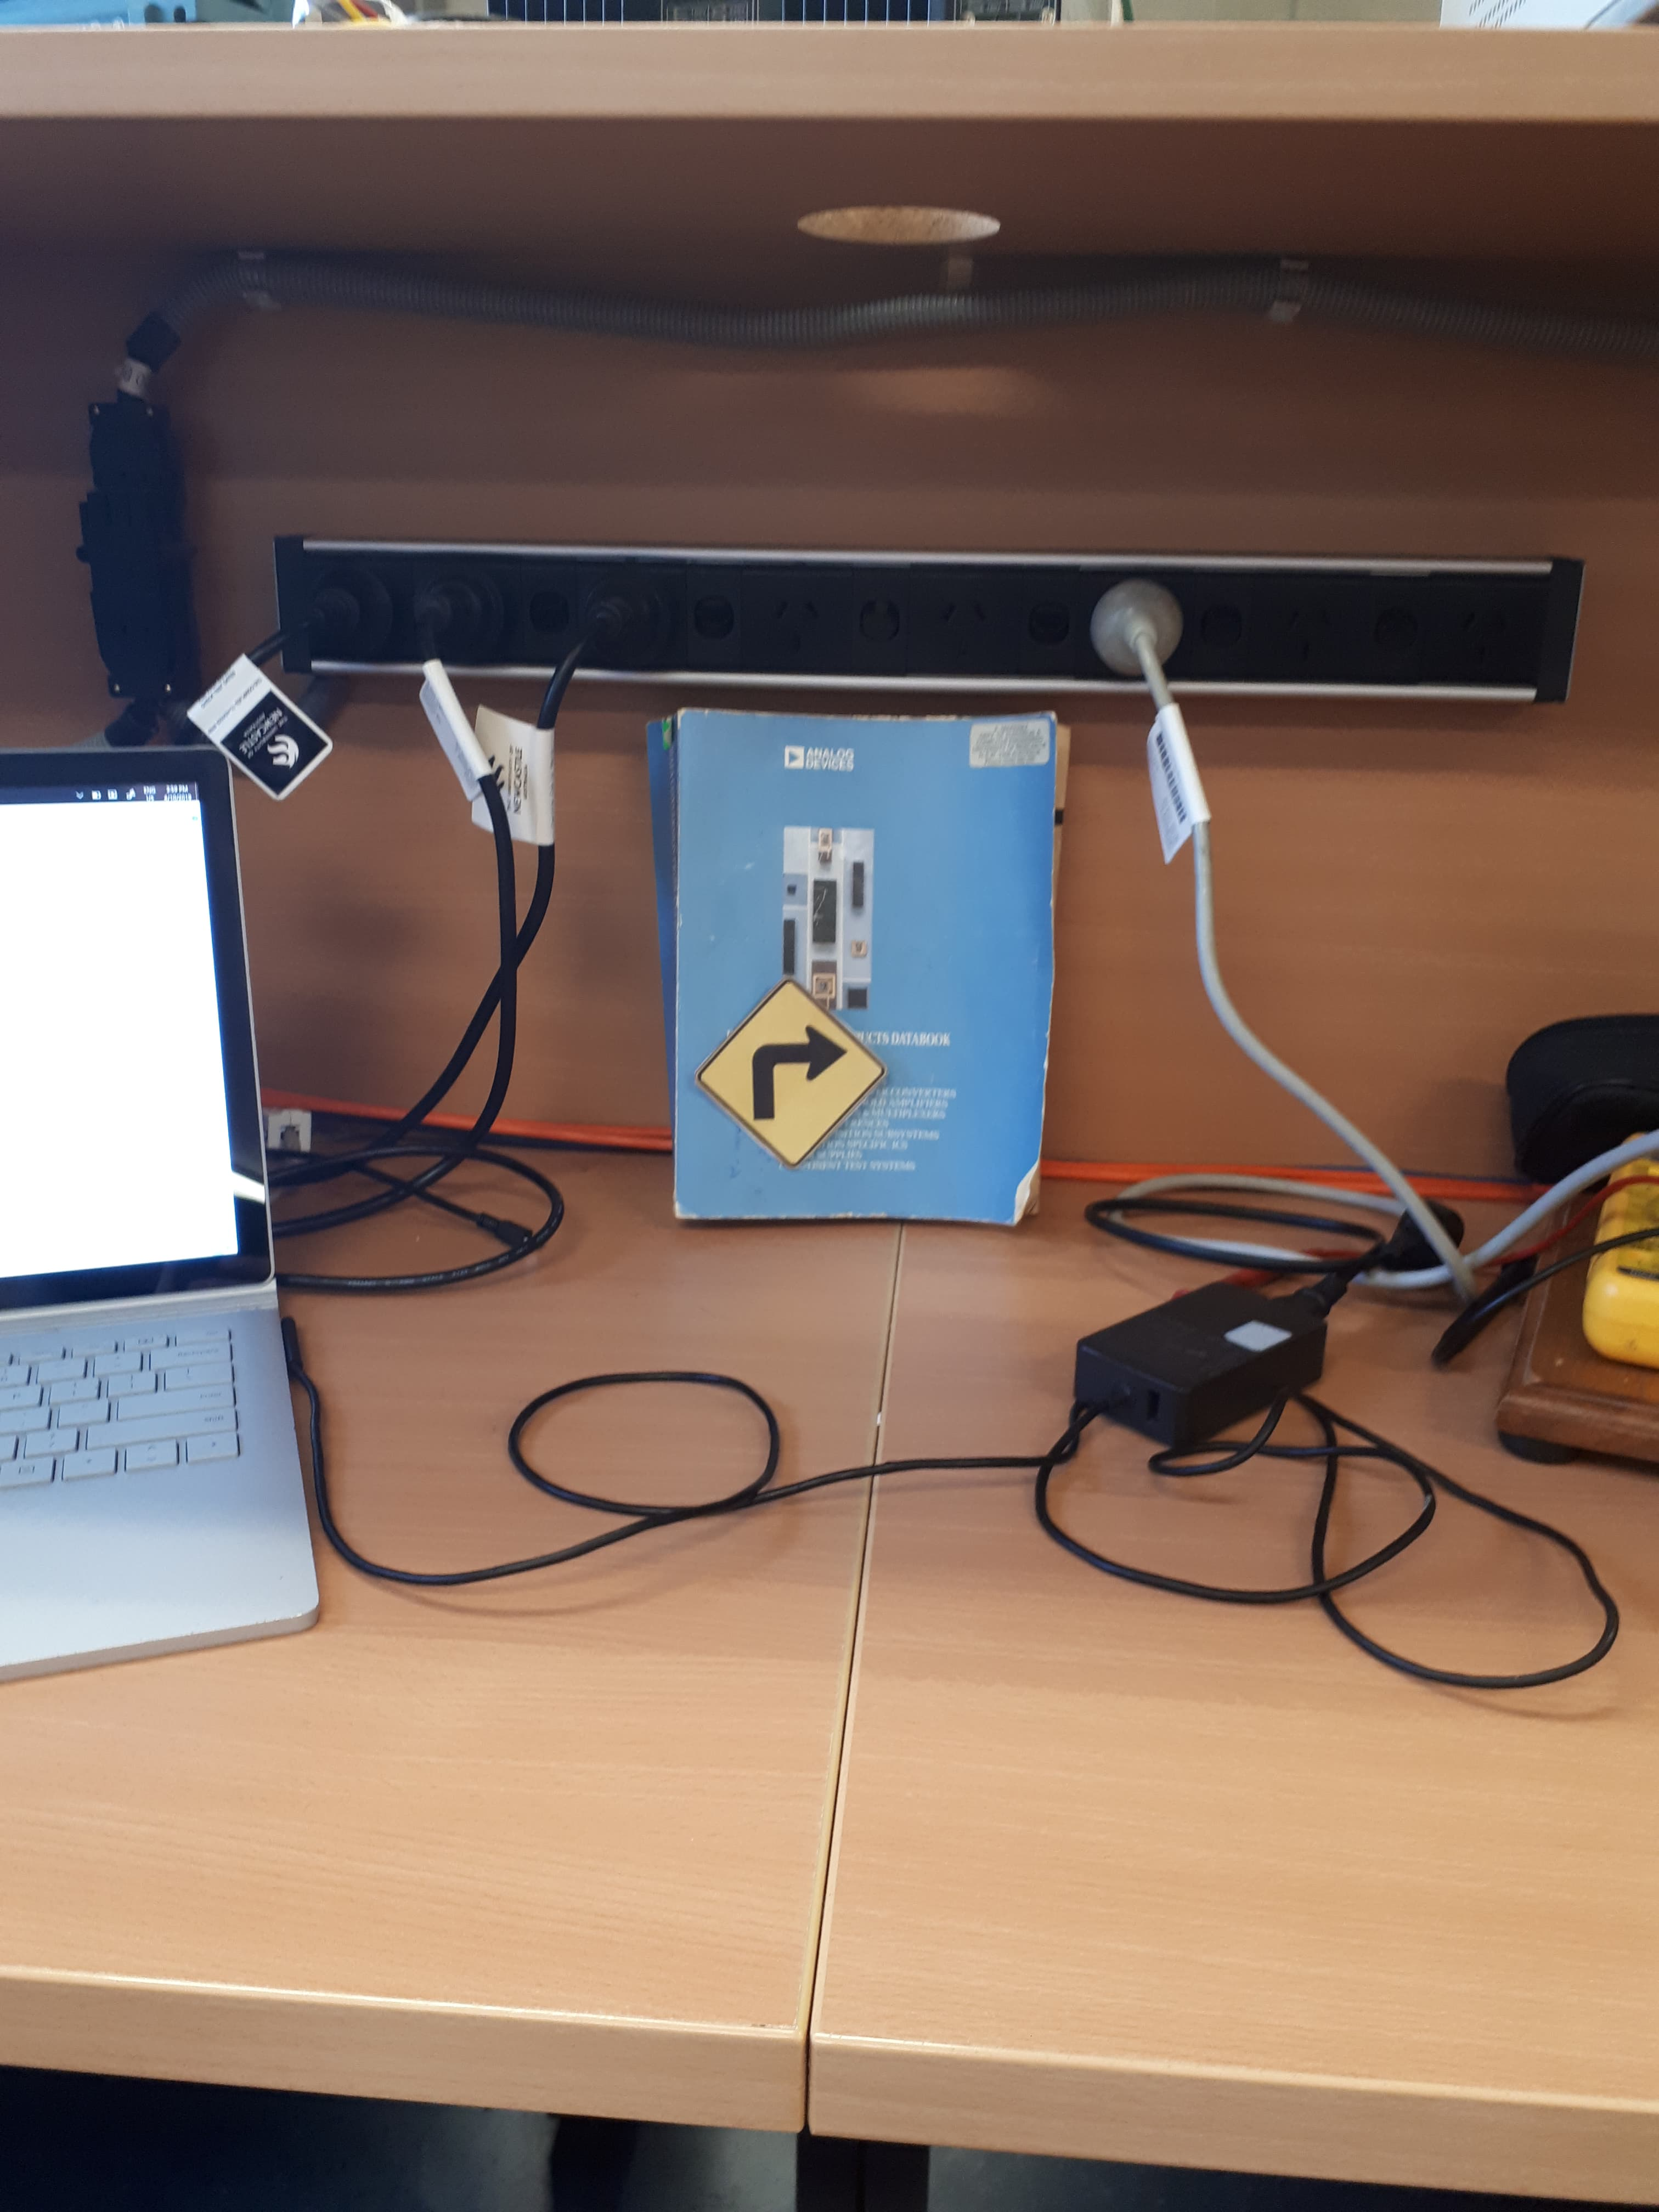right: (681, 972, 922, 1170), (739, 1005, 882, 1090), (795, 1022, 870, 1085)
